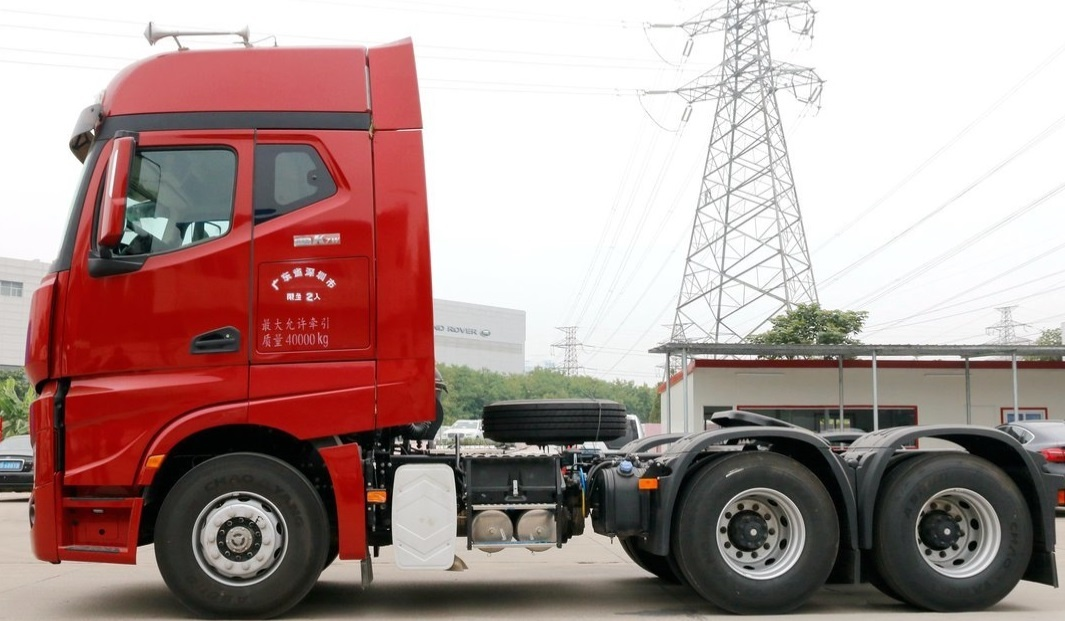heavy truck: (32, 45, 1055, 611)
